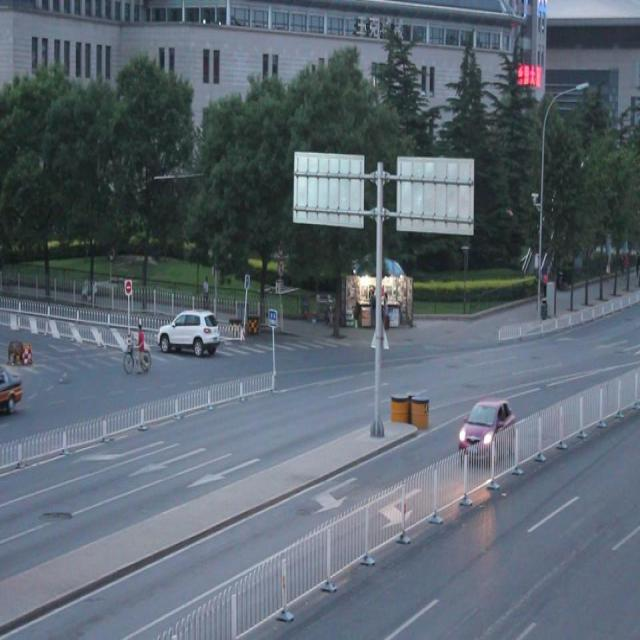car: (456, 394, 517, 464), (158, 304, 221, 362), (1, 356, 24, 418)
